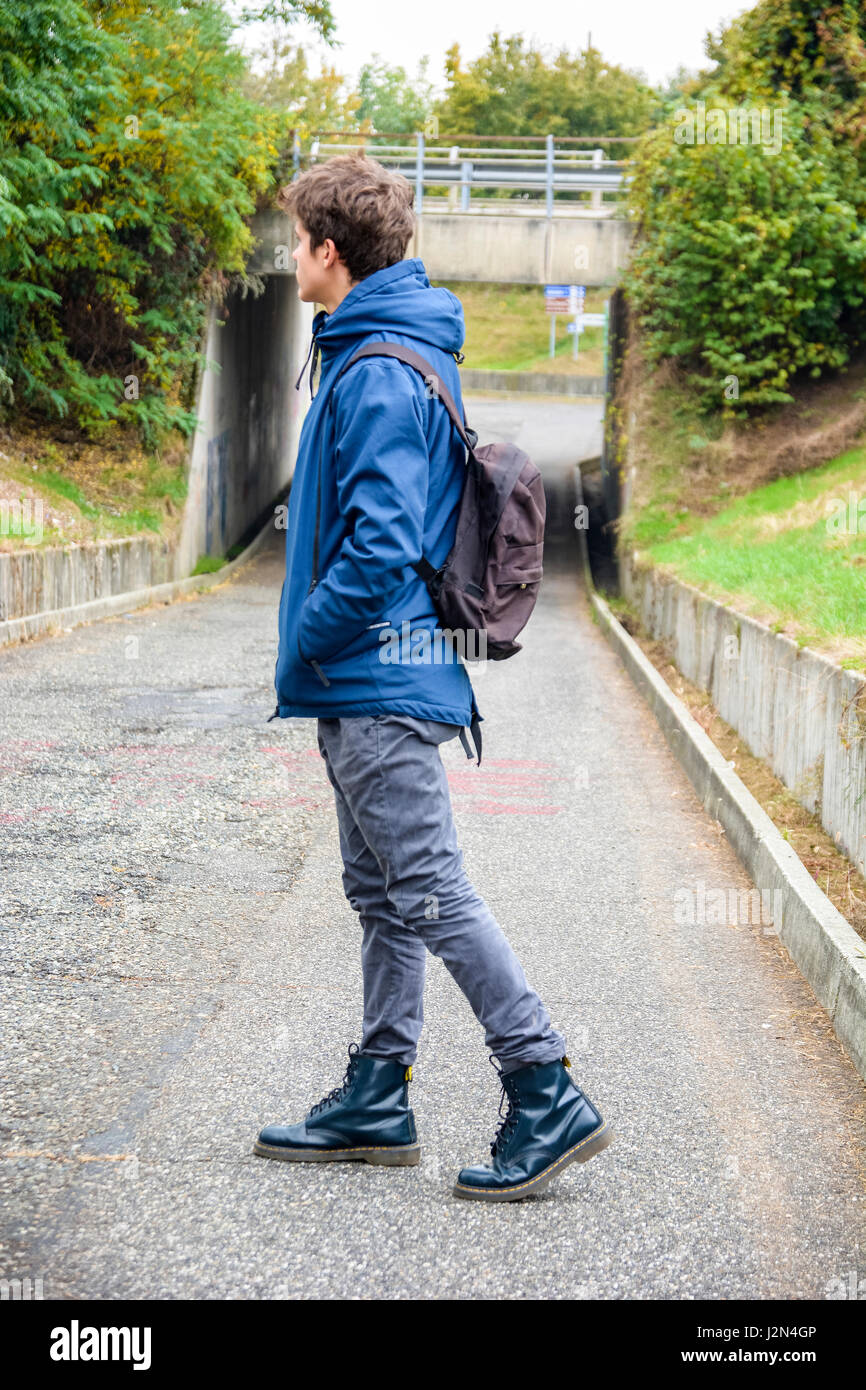person: (251, 163, 618, 1207)
